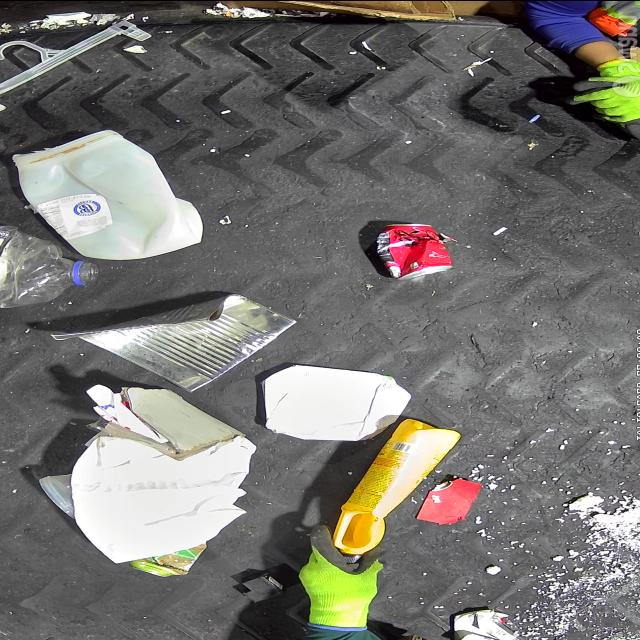can: (376, 222, 454, 279)
milk_jug: (11, 129, 202, 260)
non_white_jug: (330, 417, 464, 562)
plastic_bottle: (0, 221, 98, 307)
